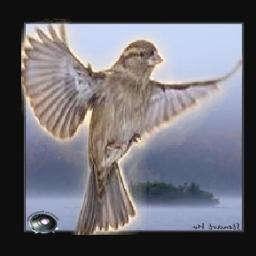Sparrow: (21, 19, 243, 235)
